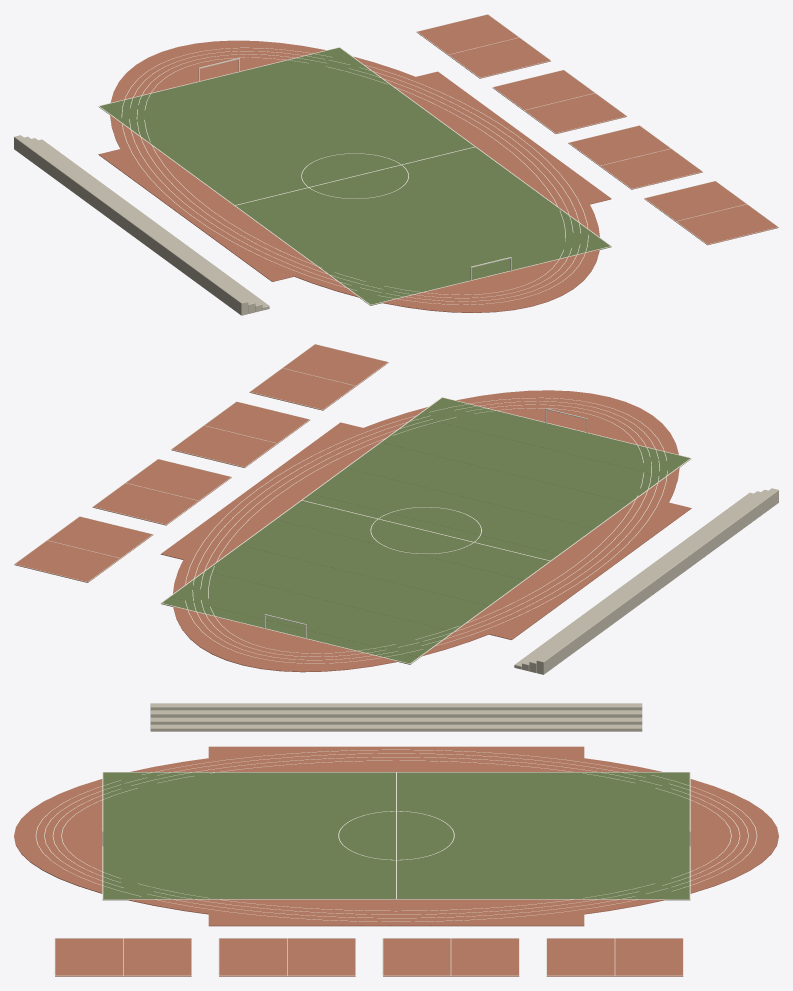
The model's file is sports.glb.
3 views of the same model, one above another, from view 1: azimuth 30°, elevation 25°; view 2: azimuth 150°, elevation 25°; view 3: azimuth 270°, elevation 25° (orthographic). The views are drawn at different scales.
Visible parts, largest first — view 1: pitch__grass2, pitch stripes__grass, running track__track, basketball courts__track, spectator terraces__stone, track lanes__white, track middle__track, pitch markings__white, basketball lines__white; view 2: pitch__grass2, pitch stripes__grass, running track__track, basketball courts__track, spectator terraces__stone, track lanes__white, track middle__track, pitch markings__white, basketball lines__white; view 3: pitch__grass2, pitch stripes__grass, running track__track, basketball courts__track, spectator terraces__stone, track lanes__white, track middle__track, basketball lines__white, pitch markings__white.
Boxes of the visible parts, box(x1,y1,x2,y2) form: pitch__grass2: box(99, 47, 611, 305); pitch stripes__grass: box(108, 54, 601, 298); running track__track: box(110, 40, 599, 312); basketball courts__track: box(416, 14, 778, 245); spectator terraces__stone: box(14, 135, 269, 315); track lanes__white: box(121, 47, 588, 304); track middle__track: box(98, 71, 611, 281); pitch markings__white: box(98, 47, 611, 305); basketball lines__white: box(416, 14, 778, 244); pitch__grass2: box(161, 398, 690, 664); pitch stripes__grass: box(170, 404, 681, 657); running track__track: box(173, 390, 679, 672); basketball courts__track: box(14, 344, 388, 582); spectator terraces__stone: box(514, 488, 778, 674); track lanes__white: box(185, 397, 667, 663); track middle__track: box(160, 422, 691, 639); pitch markings__white: box(161, 397, 691, 663); basketball lines__white: box(14, 344, 388, 582); pitch__grass2: box(103, 772, 689, 900); pitch stripes__grass: box(121, 772, 671, 898); running track__track: box(14, 746, 778, 925); basketball courts__track: box(55, 938, 683, 976); spectator terraces__stone: box(150, 703, 642, 731); track lanes__white: box(35, 749, 757, 921); track middle__track: box(208, 746, 584, 926); basketball lines__white: box(54, 938, 683, 975); pitch markings__white: box(102, 772, 690, 899).
Size of the model in its own units: 90.1 by 2.55 by 112.
